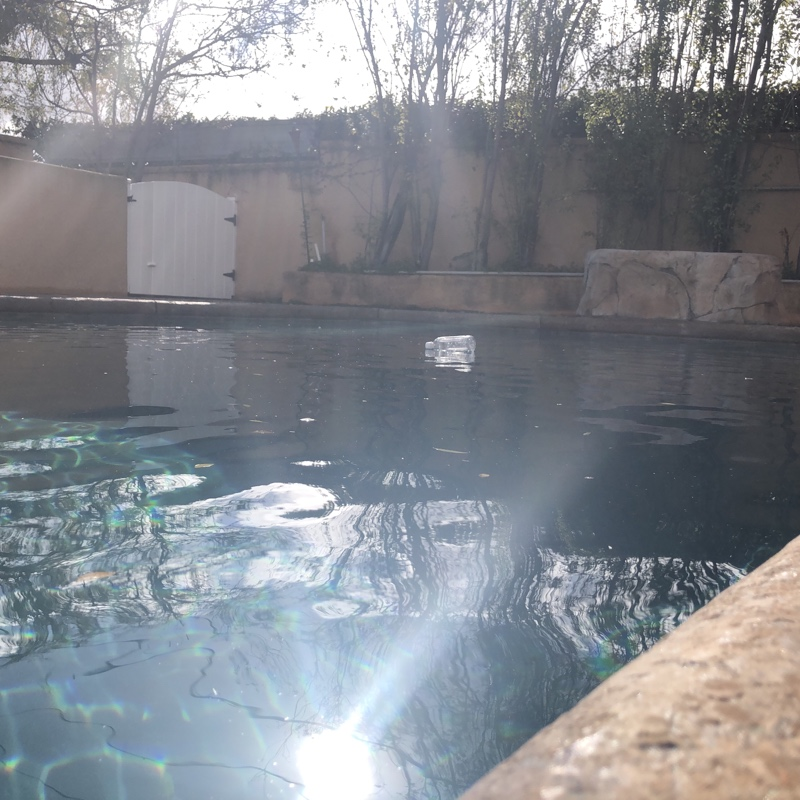Plastic Bottle: (427, 338, 474, 354)
